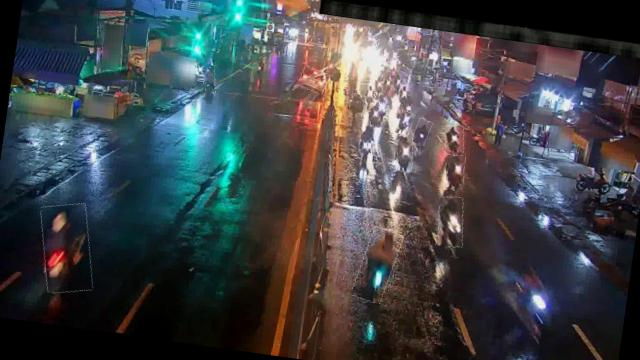Bike: (33, 200, 99, 297), (354, 226, 401, 304), (434, 195, 467, 248), (444, 150, 466, 189), (394, 134, 416, 172), (442, 124, 466, 156), (358, 125, 376, 163), (412, 117, 431, 146), (394, 110, 413, 136), (348, 93, 366, 118), (203, 66, 217, 92), (376, 94, 389, 122), (368, 103, 383, 127)
Car: (298, 66, 328, 94)
